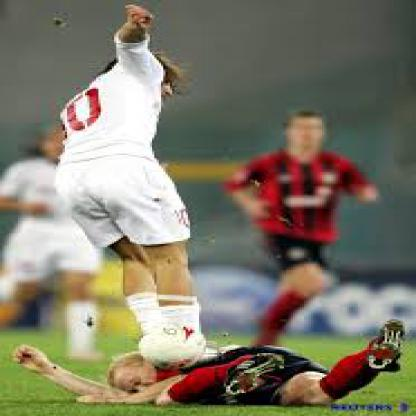Fall_Down: (11, 320, 409, 408)
